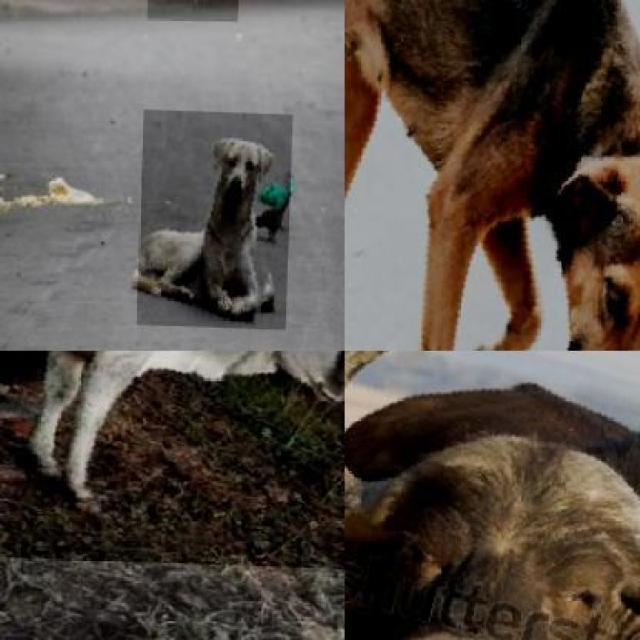buffalo: (344, 351, 640, 640)
cow: (0, 351, 345, 569)
dog: (344, 0, 640, 351), (136, 111, 293, 331)
